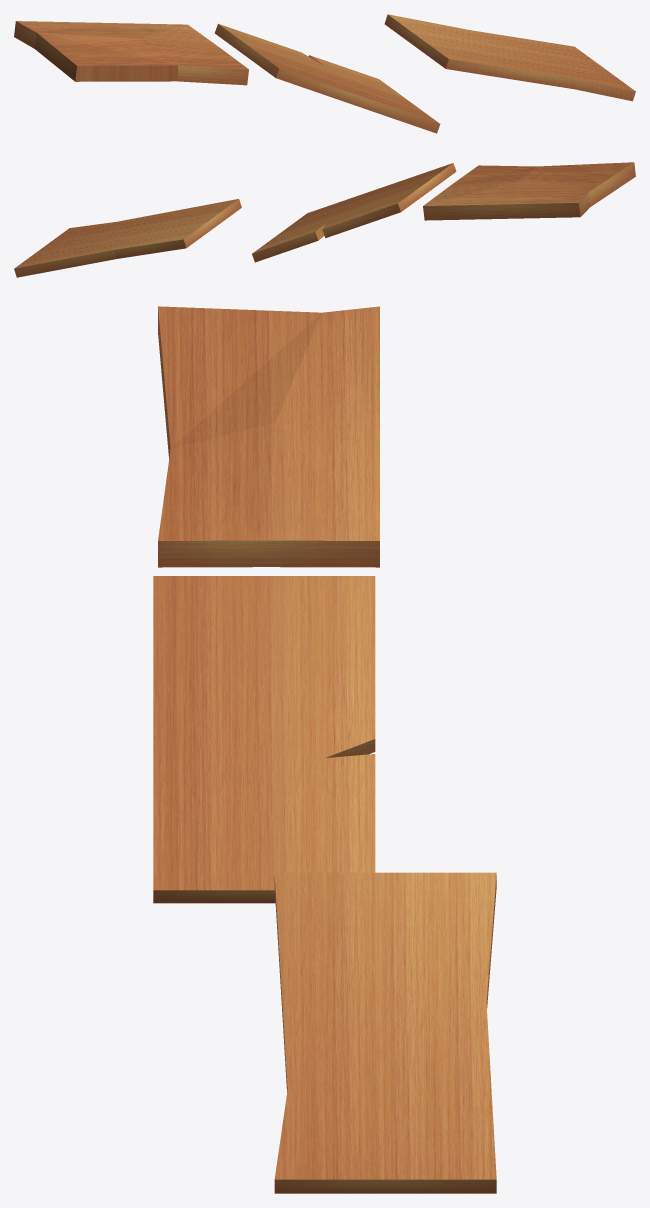
The model's file is Prop_Wooden_Path_up.FBX.
3 renders of one model, top to bottom at view 1: azimuth 30°, elevation 25°; view 2: azimuth 150°, elevation 25°; view 3: azimuth 270°, elevation 25°, orthographic. The views are drawn at different scales.
Visible parts, largest first — view 1: Box001; view 2: Box001; view 3: Box001.
Part boxes in pixels (bbox=[...]): Box001: bbox=[14, 14, 635, 133]; Box001: bbox=[14, 162, 635, 277]; Box001: bbox=[153, 306, 496, 1193].
Size of the model in its own units: 140 by 45.73 by 38.77.
